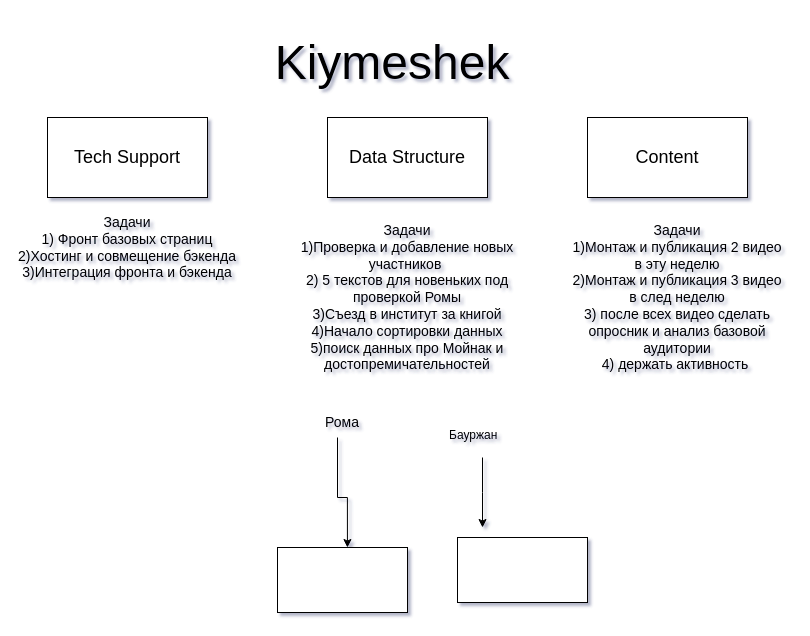
Image size: 810x636. Some labels were removed from this diagram. The centre of each missing label's shape, as x and y in pixels:
Копирайтеры (историки): point 522,569
Лингвисты(новенькие): point 342,579
